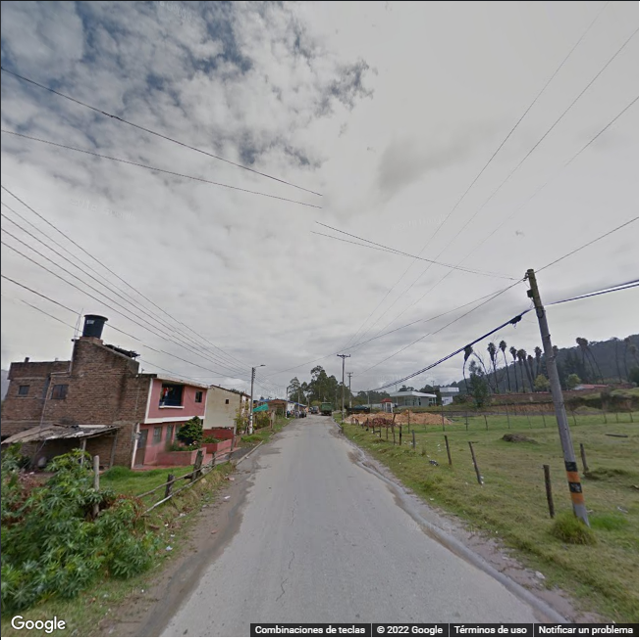D00: (277, 544, 300, 601), (330, 522, 342, 588)
